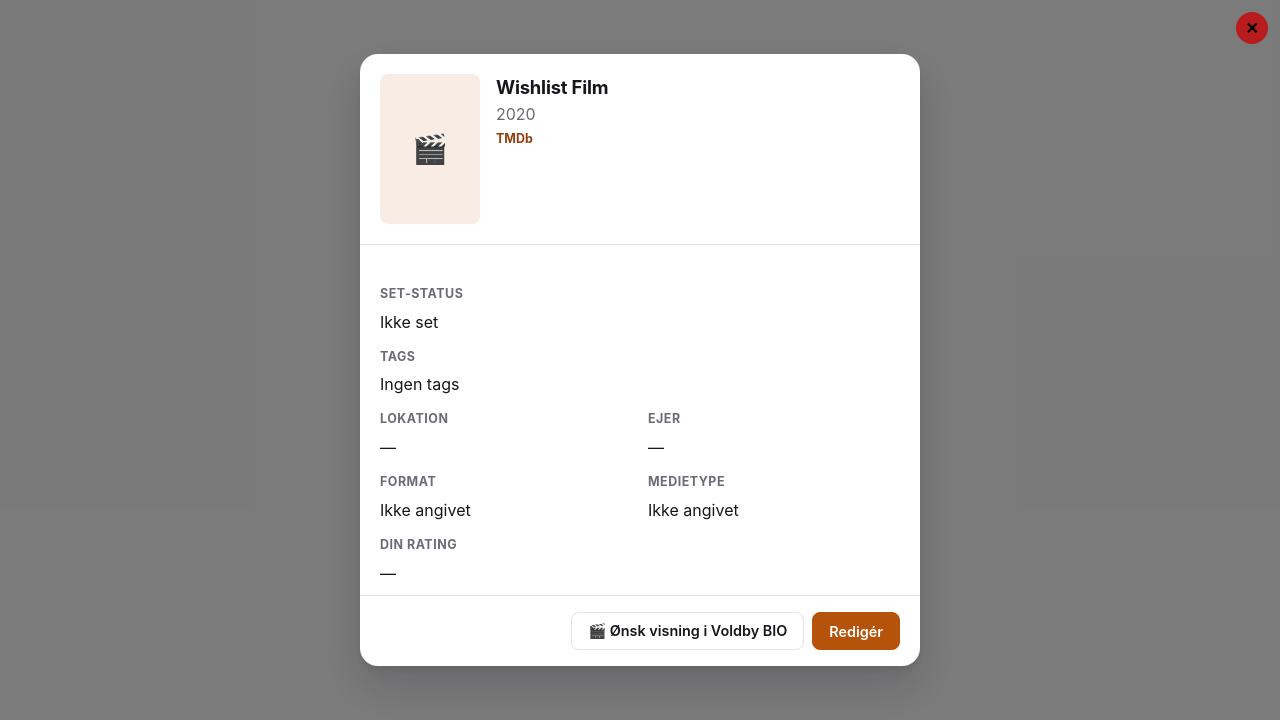
MovieDetailModal — flyt til bibliotek (feature #196) › deaktiverer 'Flyt til bibliotek' når medietype/format mangler
Click the button "Redigér" at (856, 631), box [812,612,900,650]
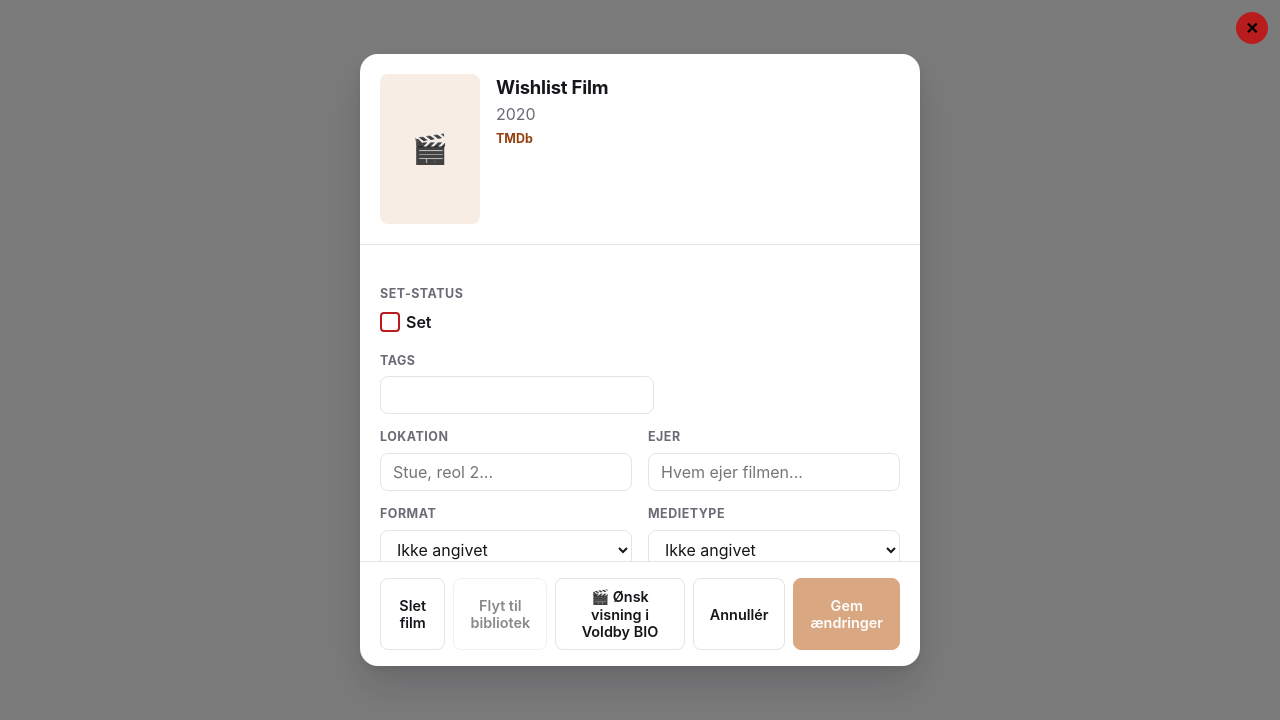
Expected: the button "Flyt til bibliotek" is disabled, [453,578,547,650]
